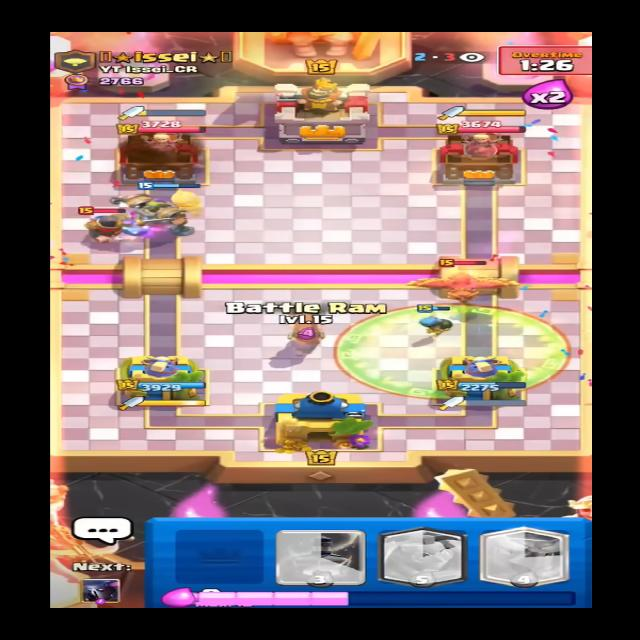goblin-curse: (333, 304, 565, 400)
knight: (75, 199, 135, 247)
phoenix: (409, 256, 527, 298)
